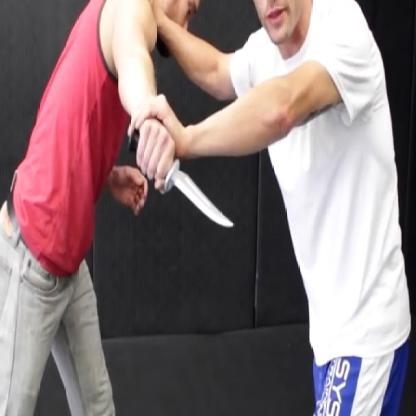knife: (124, 126, 239, 241)
